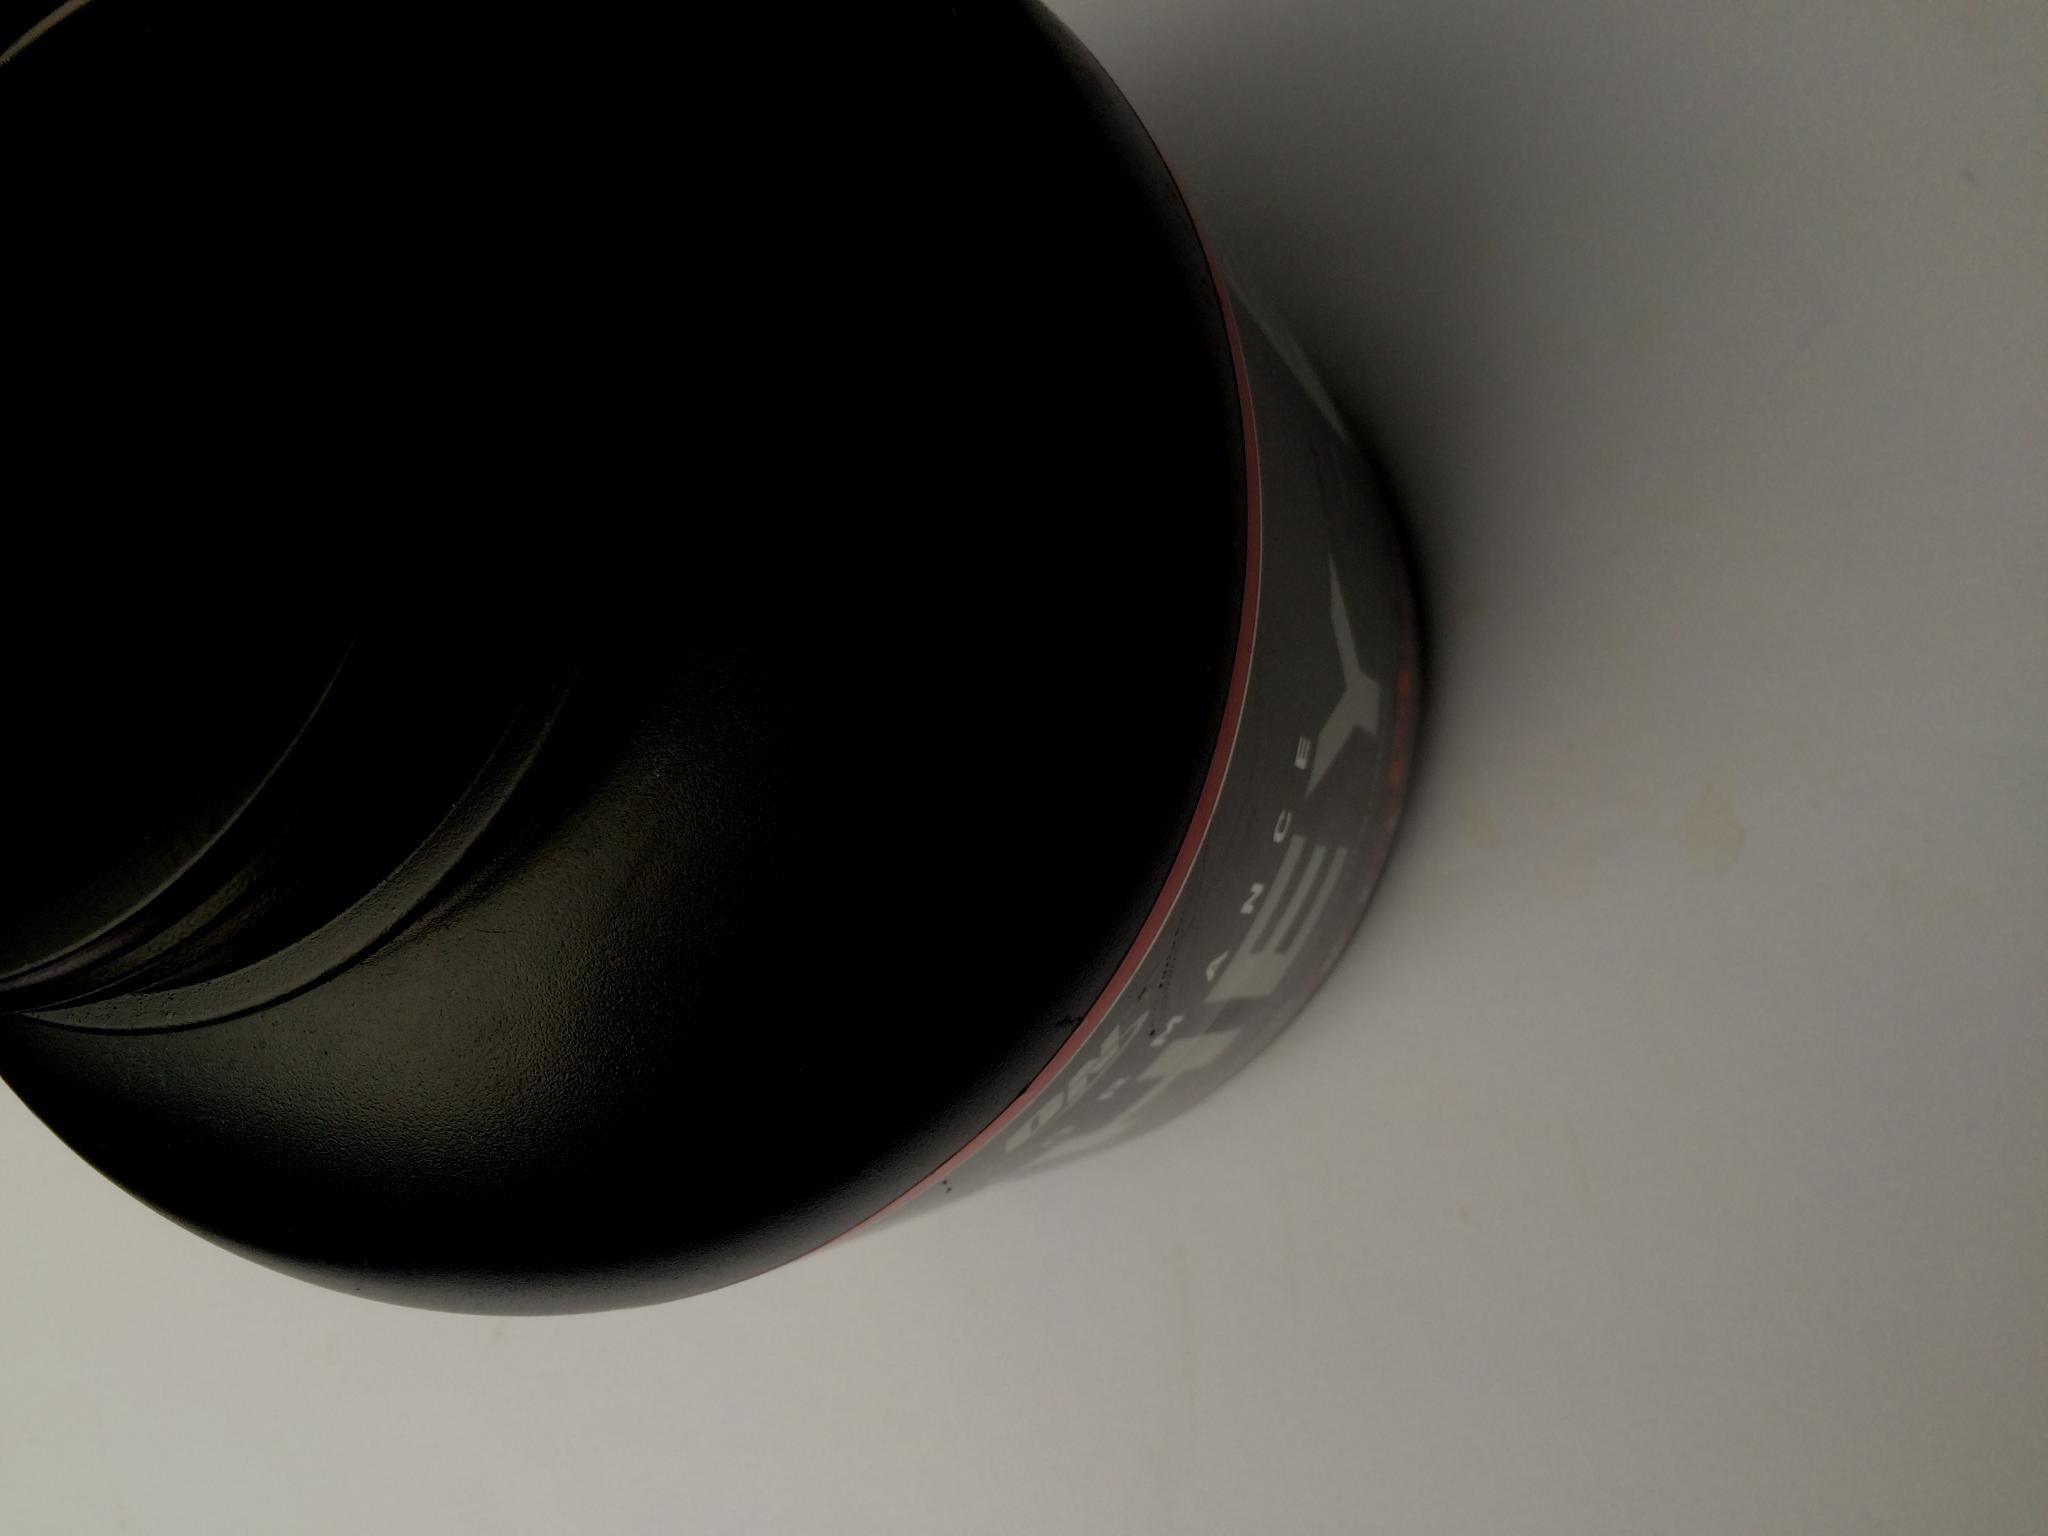Plastic: (0, 0, 1440, 1336)
